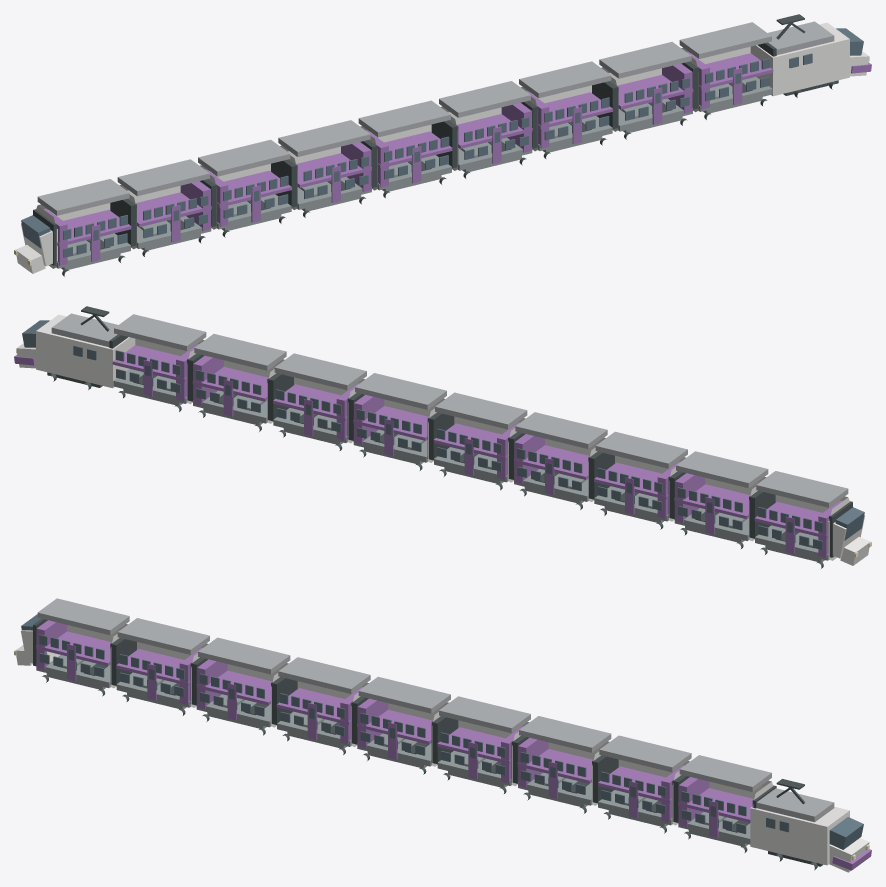
File: tgv-duplex.glb
3 renders of one model, top to bottom at view 1: azimuth 30°, elevation 25°; view 2: azimuth 150°, elevation 25°; view 3: azimuth 330°, elevation 25°, orthographic.
Parts seen in each view (by area): view 1: tgv_power_car, tgv-duplex_car_3_roof, tgv-duplex_car_1_roof, tgv-duplex_car_2_roof, tgv-duplex_car_5_roof, tgv-duplex_car_6_roof, tgv-duplex_car_7_roof, tgv-duplex_car_9_roof, tgv-duplex_car_8_roof, tgv-duplex_car_4_roof, roof, tgv-duplex_car_2_window_divider (+29 smaller); view 2: tgv_power_car, tgv-duplex_car_3_roof, tgv-duplex_car_1_roof, tgv-duplex_car_2_roof, tgv-duplex_car_5_roof, tgv-duplex_car_6_roof, tgv-duplex_car_7_roof, tgv-duplex_car_9_roof, tgv-duplex_car_8_roof, tgv-duplex_car_4_roof, roof, tgv-duplex_car_2_window_divider (+29 smaller); view 3: tgv_power_car, tgv-duplex_car_1_roof, tgv-duplex_car_2_roof, tgv-duplex_car_5_roof, tgv-duplex_car_7_roof, tgv-duplex_car_9_roof, tgv-duplex_car_3_roof, tgv-duplex_car_8_roof, tgv-duplex_car_6_roof, tgv-duplex_car_4_roof, roof, tgv-duplex_car_3_window_divider (+28 smaller).
Part boxes in pixels (bbox=[...]): tgv_power_car: bbox=[750, 22, 849, 96]; tgv-duplex_car_3_roof: bbox=[519, 61, 611, 98]; tgv-duplex_car_1_roof: bbox=[679, 22, 771, 58]; tgv-duplex_car_2_roof: bbox=[599, 42, 691, 78]; tgv-duplex_car_5_roof: bbox=[358, 100, 450, 137]; tgv-duplex_car_6_roof: bbox=[278, 120, 370, 156]; tgv-duplex_car_7_roof: bbox=[198, 139, 290, 176]; tgv-duplex_car_9_roof: bbox=[37, 179, 129, 215]; tgv-duplex_car_8_roof: bbox=[117, 159, 209, 196]; tgv-duplex_car_4_roof: bbox=[439, 81, 530, 117]; roof: bbox=[768, 21, 834, 54]; tgv-duplex_car_2_window_divider: bbox=[617, 75, 693, 109]; tgv_power_car: bbox=[36, 314, 135, 388]; tgv-duplex_car_3_roof: bbox=[274, 353, 366, 390]; tgv-duplex_car_1_roof: bbox=[114, 314, 206, 350]; tgv-duplex_car_2_roof: bbox=[194, 334, 286, 370]; tgv-duplex_car_5_roof: bbox=[435, 392, 527, 429]; tgv-duplex_car_6_roof: bbox=[515, 412, 607, 448]; tgv-duplex_car_7_roof: bbox=[595, 431, 687, 468]; tgv-duplex_car_9_roof: bbox=[756, 471, 848, 507]; tgv-duplex_car_8_roof: bbox=[676, 451, 768, 488]; tgv-duplex_car_4_roof: bbox=[355, 373, 446, 409]; roof: bbox=[51, 313, 117, 346]; tgv-duplex_car_2_window_divider: bbox=[192, 367, 268, 401]; tgv_power_car: bbox=[750, 806, 849, 865]; tgv-duplex_car_1_roof: bbox=[679, 755, 771, 791]; tgv-duplex_car_2_roof: bbox=[599, 735, 691, 772]; tgv-duplex_car_5_roof: bbox=[358, 676, 450, 713]; tgv-duplex_car_7_roof: bbox=[198, 637, 290, 674]; tgv-duplex_car_9_roof: bbox=[37, 598, 129, 635]; tgv-duplex_car_3_roof: bbox=[519, 716, 611, 752]; tgv-duplex_car_8_roof: bbox=[117, 618, 209, 654]; tgv-duplex_car_6_roof: bbox=[278, 657, 370, 693]; tgv-duplex_car_4_roof: bbox=[439, 696, 530, 733]; roof: bbox=[756, 788, 834, 822]; tgv-duplex_car_3_window_divider: bbox=[517, 749, 593, 783].
Bounding box in the file's own units: 15.49 × 1.25 × 0.791.
